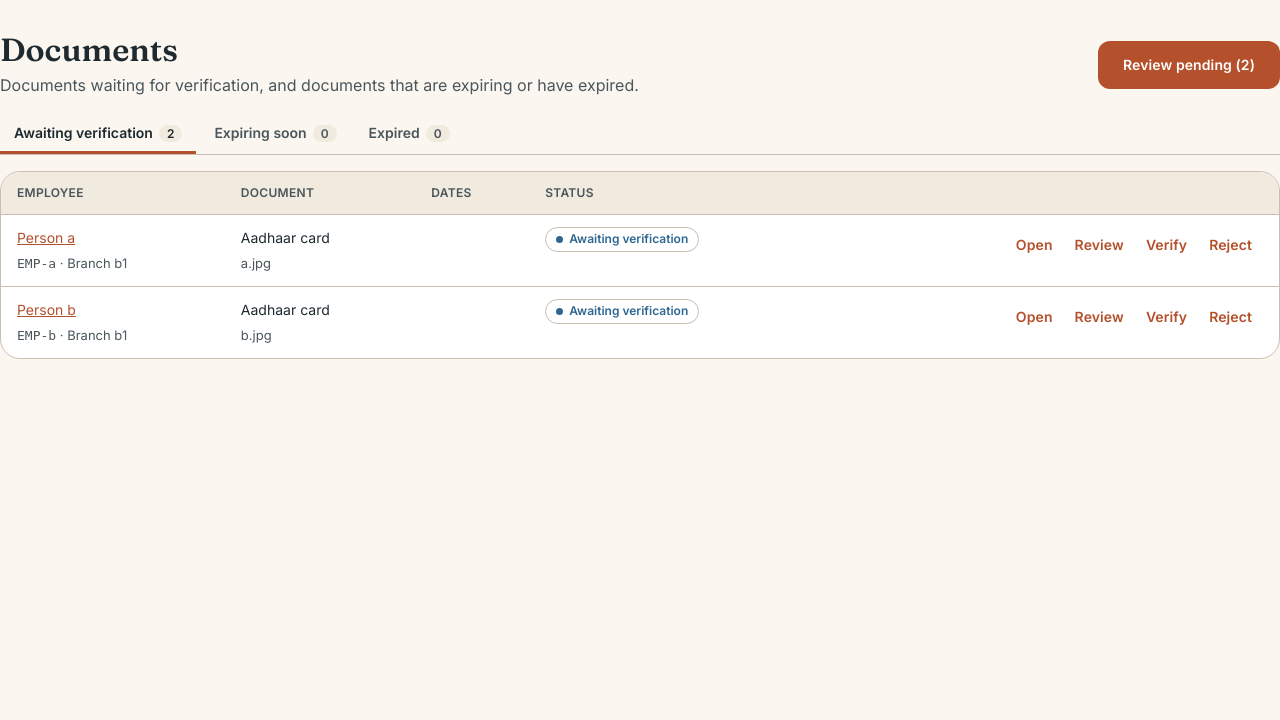
Test: reviewing documents › stays open on Escape and a click outside while a decision is on its way, so closing still refreshes once
Click the button "Review pending (2)" at (1189, 65), box [1098,41,1279,89]
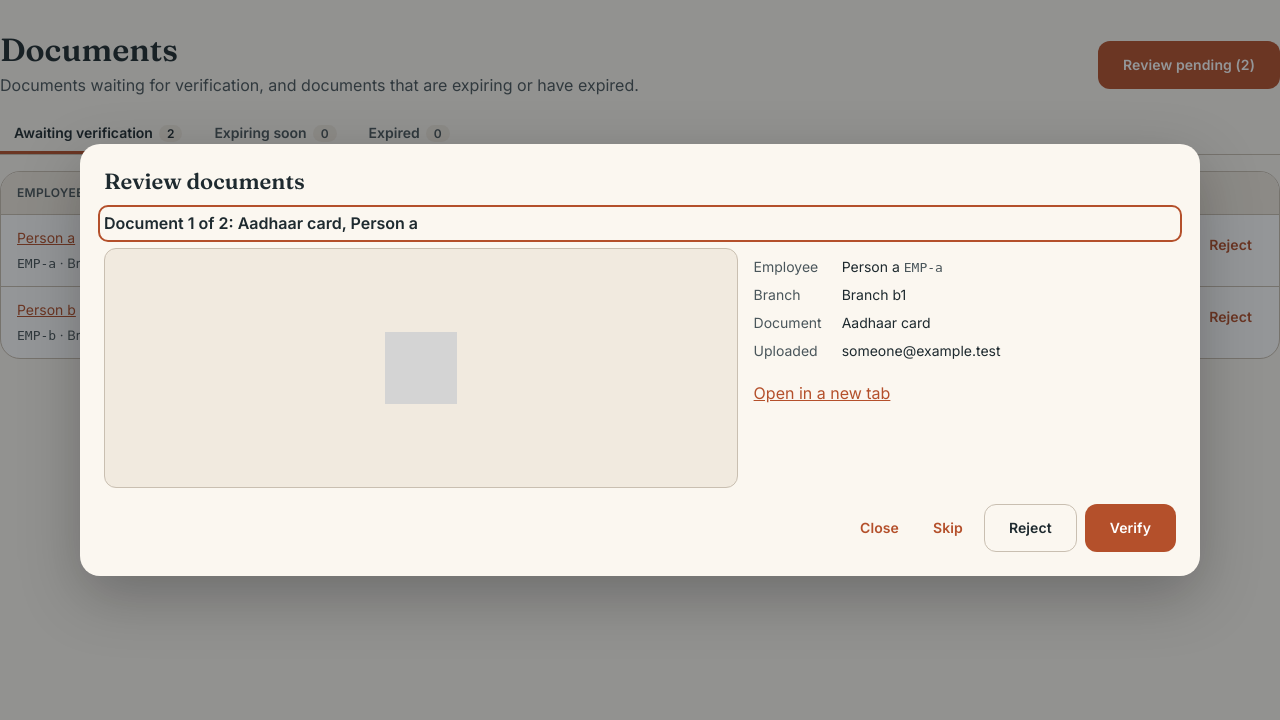
Click the button "Verify" at (1130, 528), box [1085,504,1176,552]
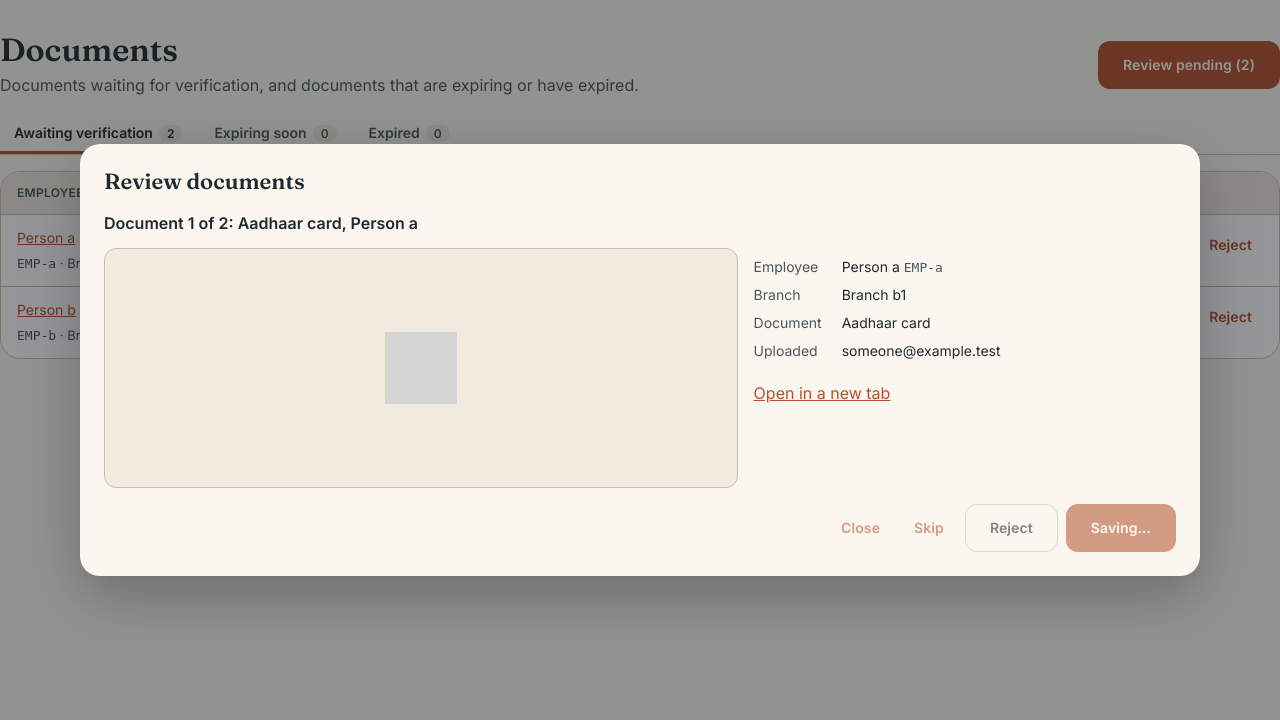
Press Escape
Press the mouse on the element that starts with "Review documents" at (640, 360), box [0,0,1279,719]
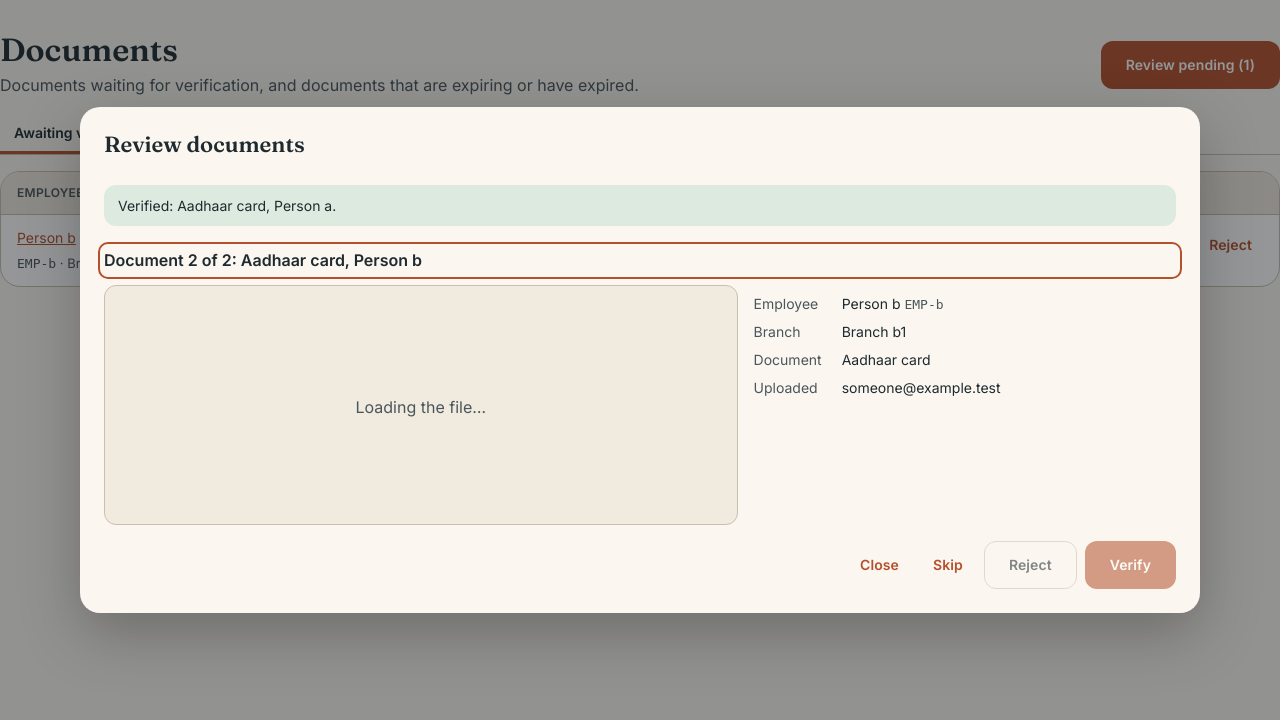
Expected: the dialog is shown
Press Escape
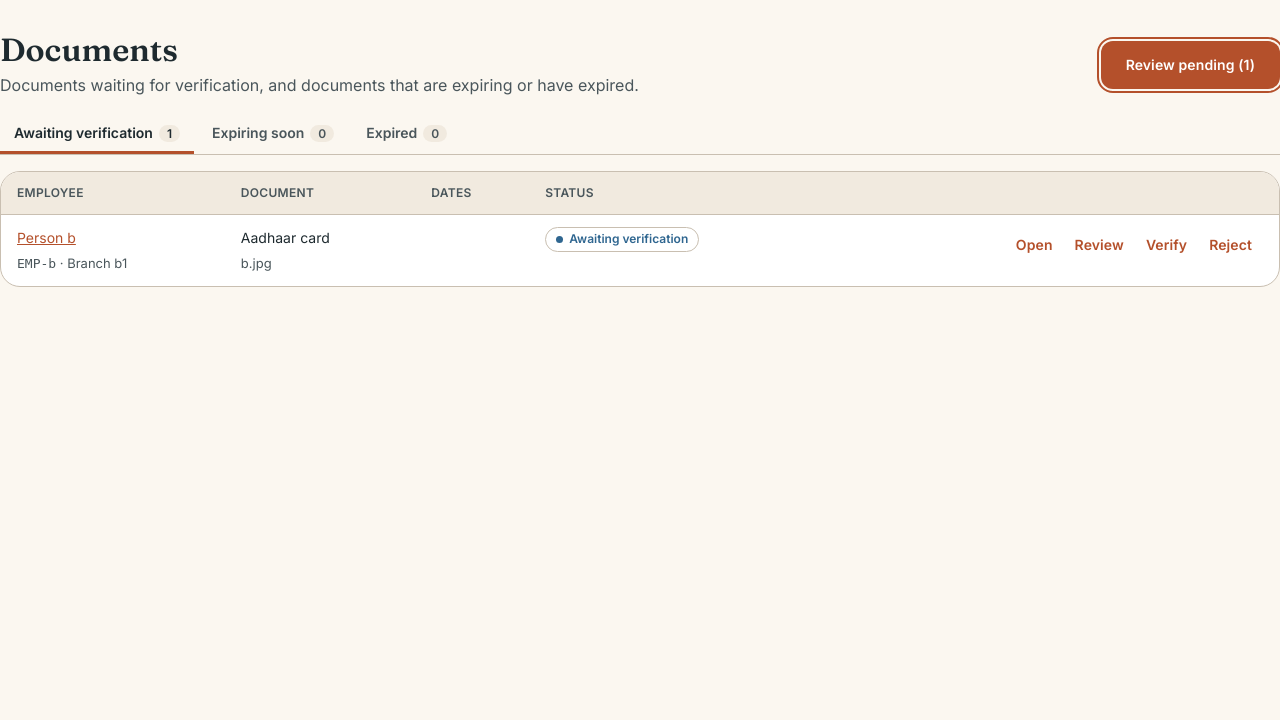
Expected: the dialog is gone
A sitting that decides nothing reads nothing: the earlier one left no mark behind.
Click the button "Review pending (1)" at (1190, 65), box [1101,41,1279,89]
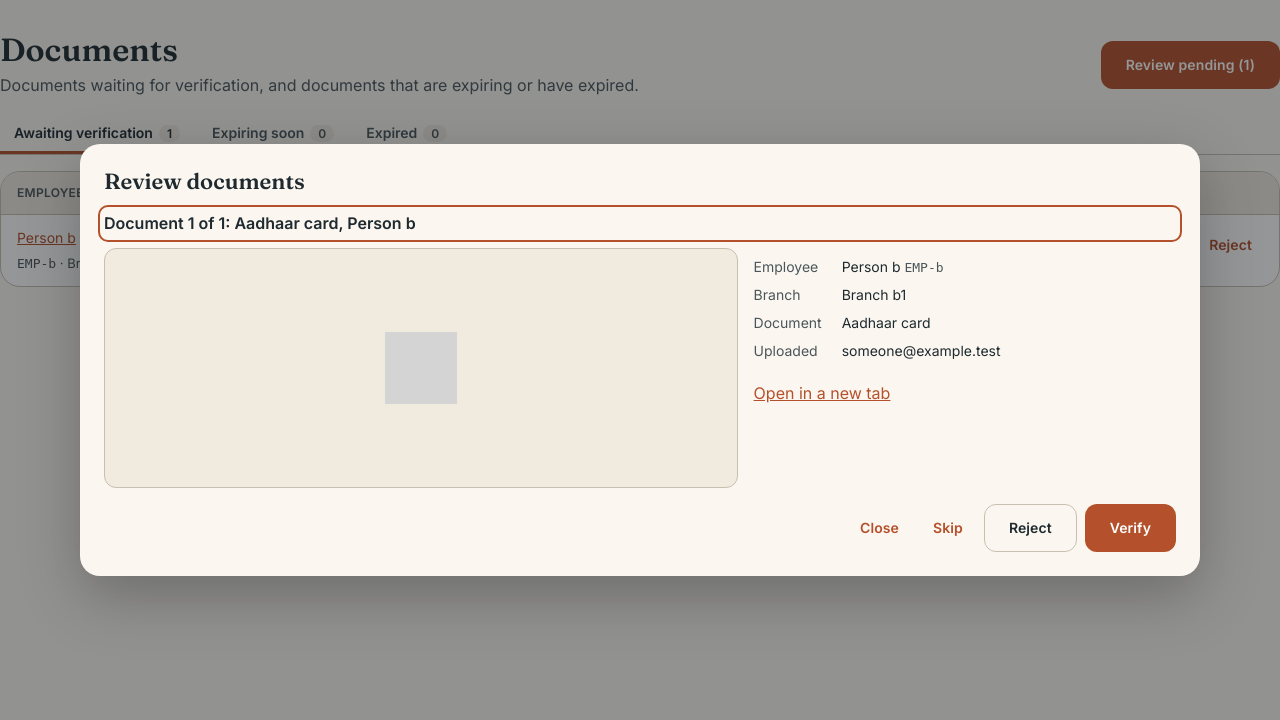
Press Escape
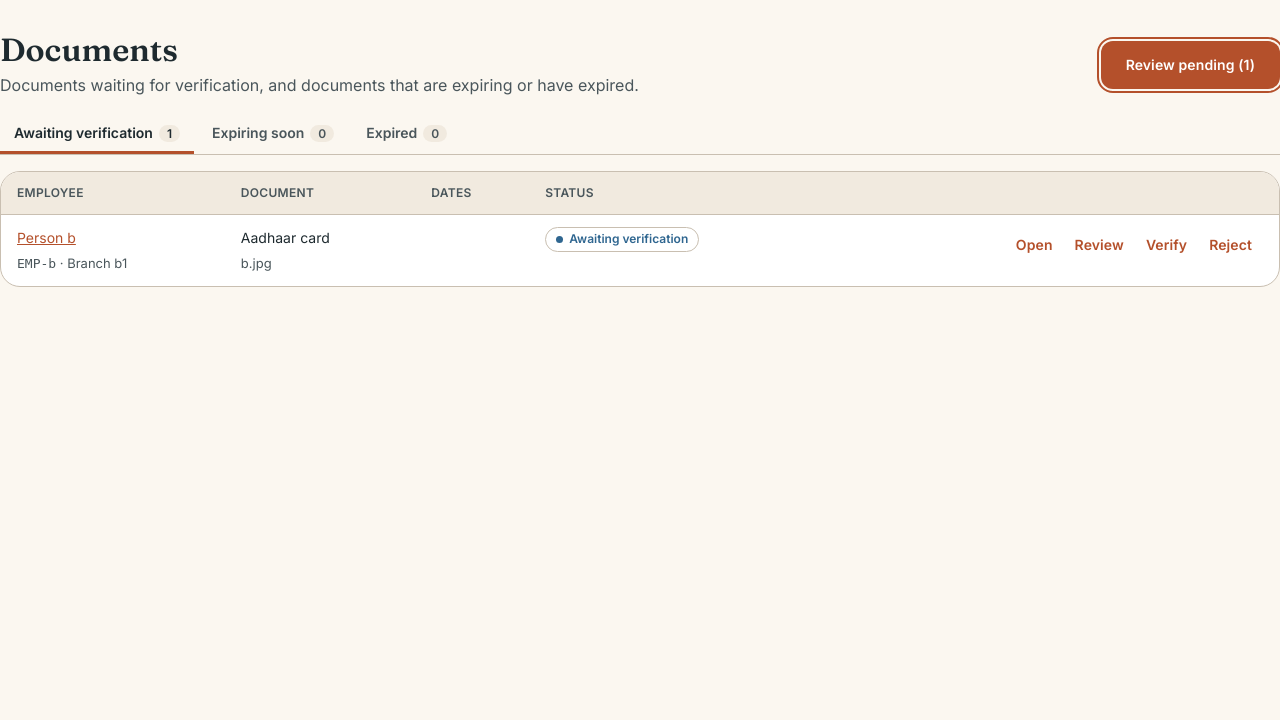
Expected: the dialog is gone
